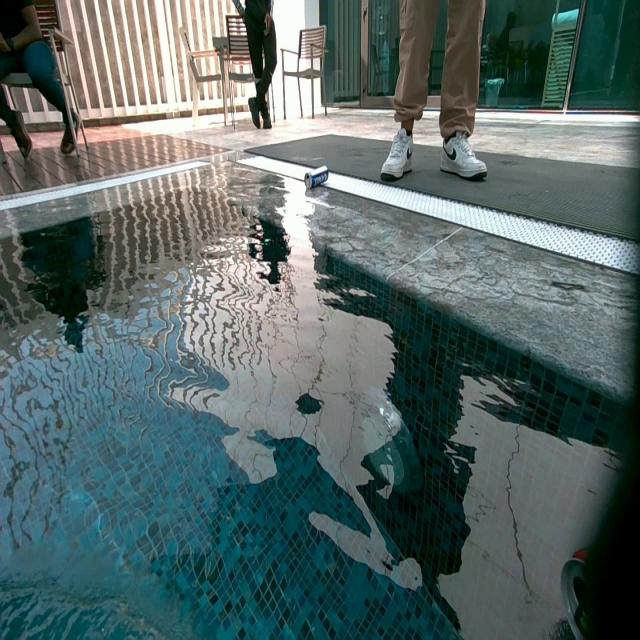Cans: (303, 166, 329, 188)
